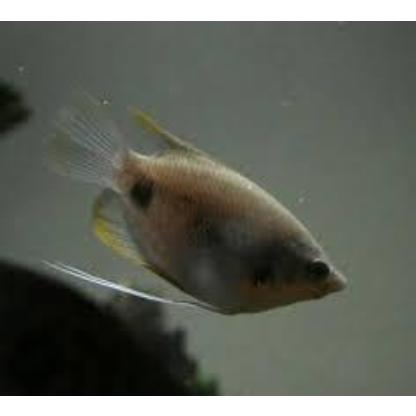gurame: (80, 115, 350, 315)
